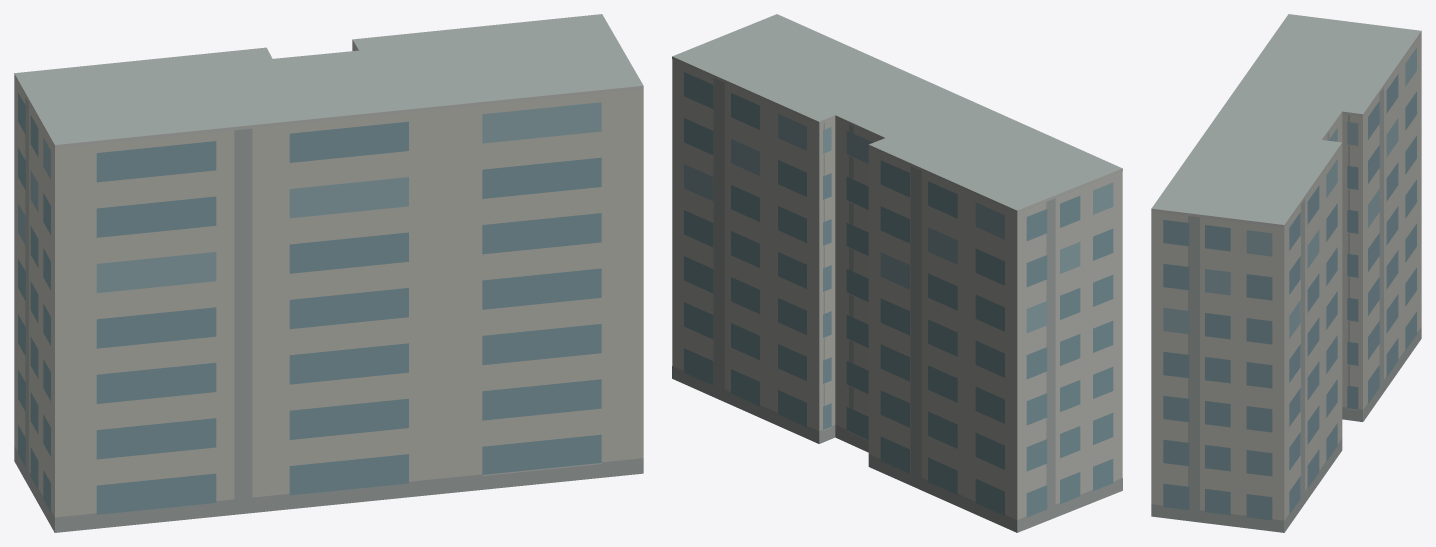
The model's file is survey-upis-32873989.glb.
3 views of the same model, side by side, from view 1: azimuth 30°, elevation 25°; view 2: azimuth 150°, elevation 25°; view 3: azimuth 270°, elevation 25° (orthographic). The views are drawn at different scales.
Visible parts, largest first — view 1: survey-upis-32873989.tmp; view 2: survey-upis-32873989.tmp; view 3: survey-upis-32873989.tmp.
Boxes of the visible parts, x1,y1,x2,y2 form: survey-upis-32873989.tmp: (14,14,643,532); survey-upis-32873989.tmp: (672,14,1122,532); survey-upis-32873989.tmp: (1151,14,1421,532).
Size of the model in its own units: 40.29 by 27.4 by 21.81.
